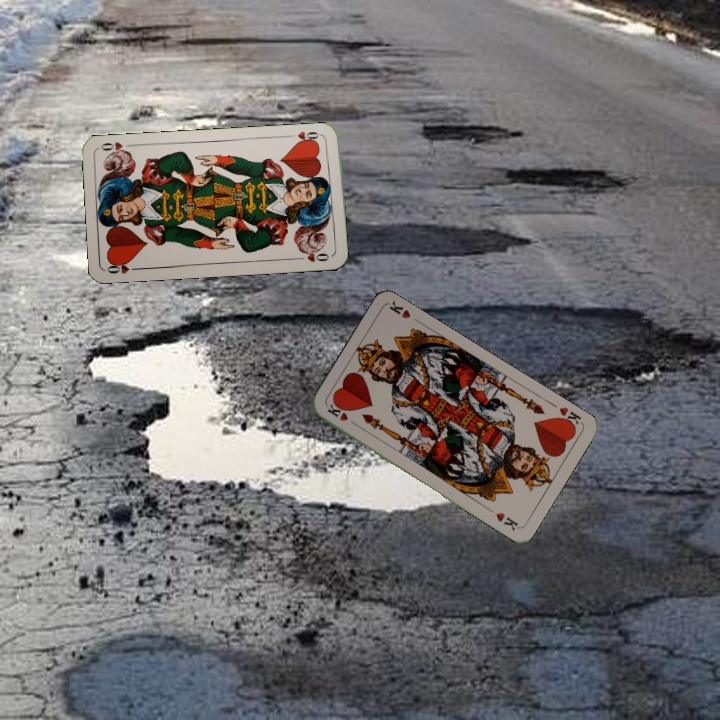HK: (323, 400, 361, 429), (553, 403, 584, 431)
HO: (284, 127, 325, 147), (103, 258, 144, 276)
